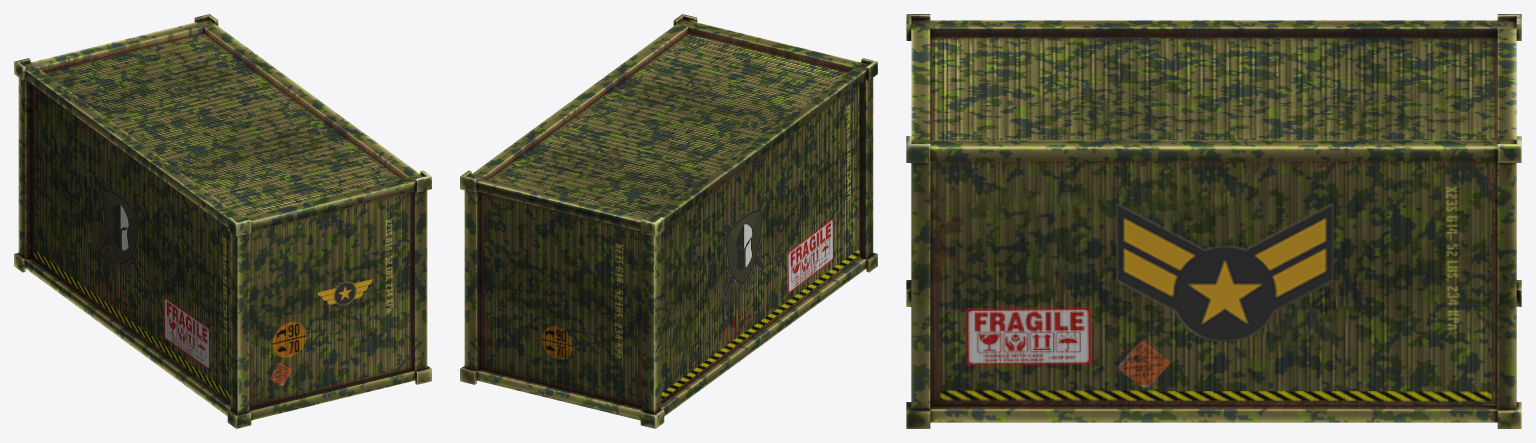
Rendered from Container.fbx.
3 views of the same model, side by side, from view 1: azimuth 30°, elevation 25°; view 2: azimuth 150°, elevation 25°; view 3: azimuth 270°, elevation 25° (orthographic). The views are drawn at different scales.
Parts seen in each view (by area): view 1: Container; view 2: Container; view 3: Container.
Part boxes in pixels (x1=…): Container: x1=14, y1=14, x2=431, y2=428; Container: x1=460, y1=14, x2=877, y2=428; Container: x1=906, y1=14, x2=1521, y2=428.
Bounding box in the file's own units: 6600 × 6600 × 13000.
1 material, 1 textured.
